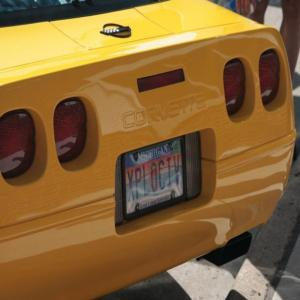Plate: (122, 137, 185, 214)
